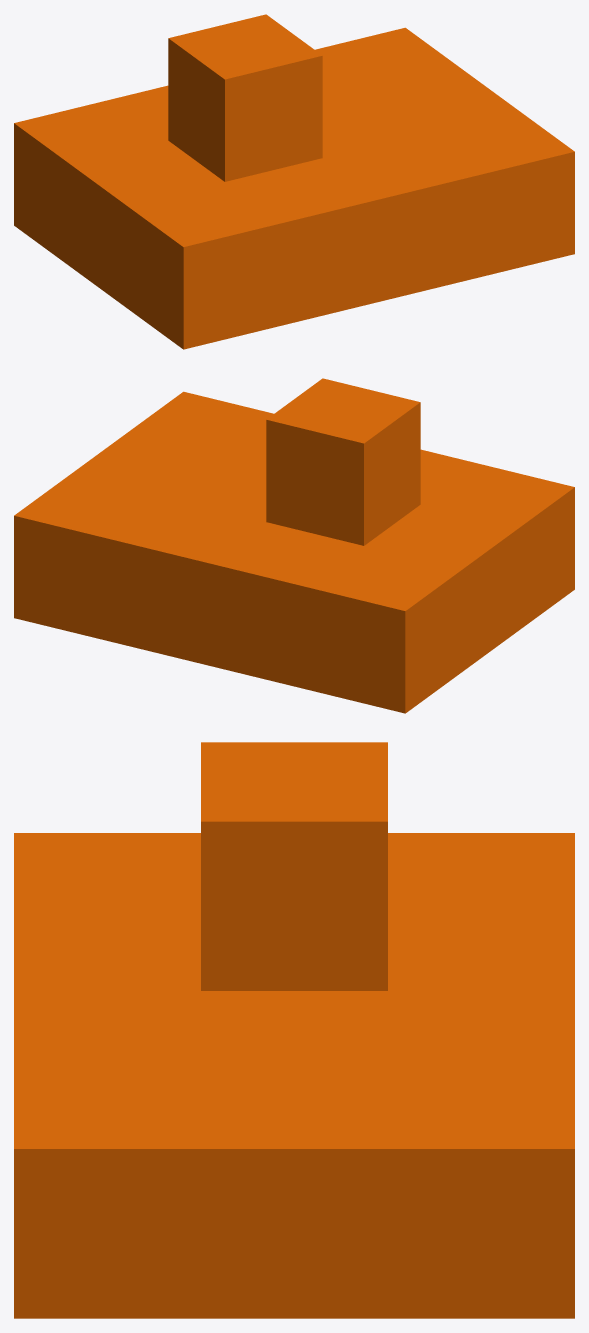
Rendered from Animals-1.obj.
The picture shows the model from 3 angles, top to bottom: view 1: azimuth 30°, elevation 25°; view 2: azimuth 150°, elevation 25°; view 3: azimuth 270°, elevation 25°; orthographic projection. The views are drawn at different scales.
Bounding box in the file's own units: 0.4 × 0.2 × 0.3.
Materials: 1 (1 with a texture image).
